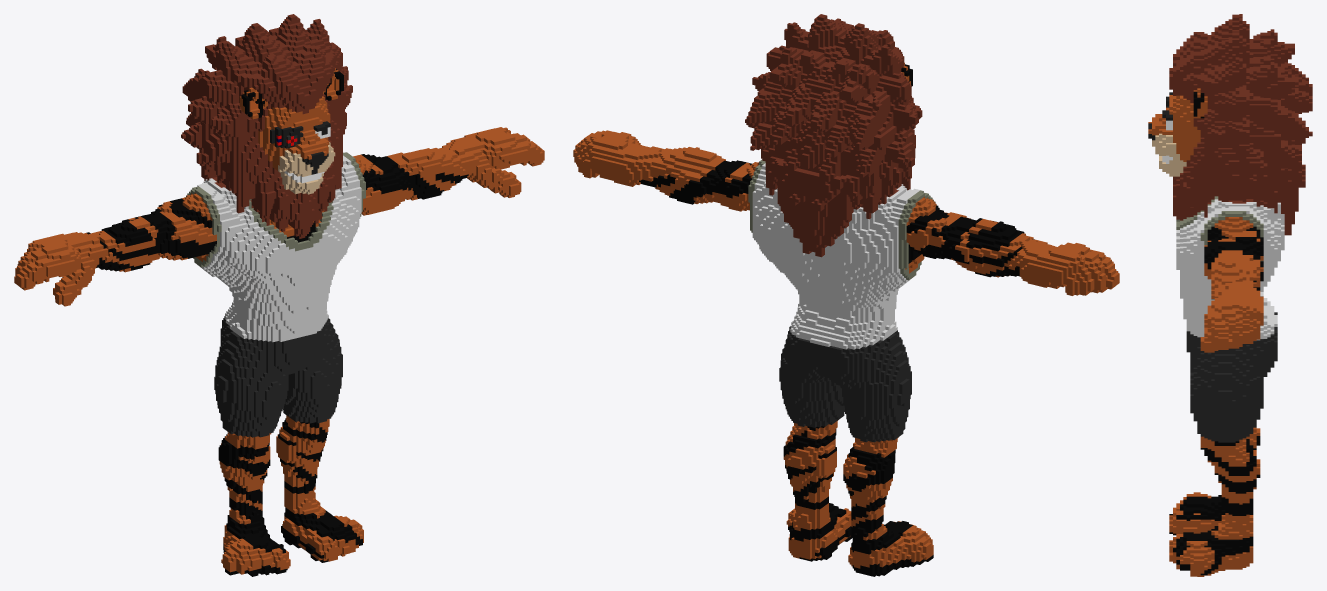
Rendered from 786-BAUKHPPm.glb.
3 views of the same model, side by side, from view 1: azimuth 30°, elevation 25°; view 2: azimuth 150°, elevation 25°; view 3: azimuth 270°, elevation 25° (orthographic). The views are drawn at different scales.
Parts seen in each view (by area): view 1: big_smile; view 2: big_smile; view 3: big_smile.
Boxes of the visible parts, <box> form: big_smile: <box>14,14,544,576</box>; big_smile: <box>573,14,1119,576</box>; big_smile: <box>1148,14,1312,576</box>.
Size of the model in its own units: 17.2 by 16.5 by 4.7.
Materials: 5 (5 with a texture image).
